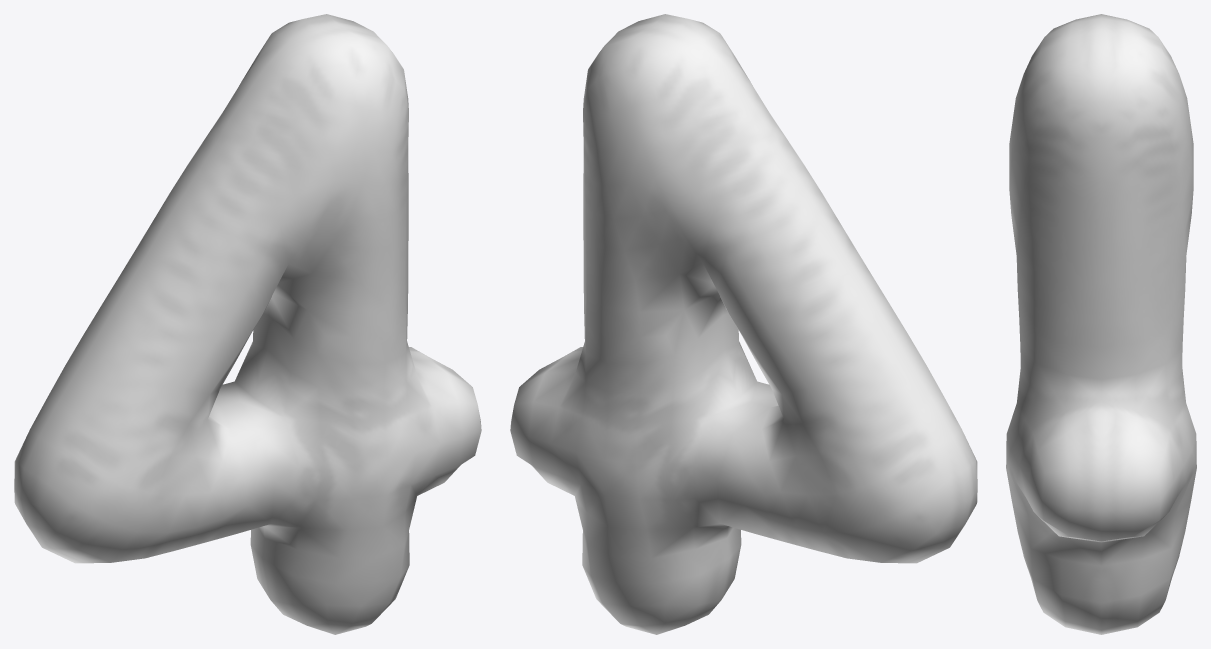
The model's file is LettersBalloon01_4.FBX.
3 renders of one model, left to right at view 1: azimuth 30°, elevation 25°; view 2: azimuth 150°, elevation 25°; view 3: azimuth 270°, elevation 25°, orthographic.
Parts seen in each view (by area): view 1: LettersBalloon01_4; view 2: LettersBalloon01_4; view 3: LettersBalloon01_4.
Boxes of the visible parts, <box> form: LettersBalloon01_4: <box>14,14,481,634</box>; LettersBalloon01_4: <box>510,14,977,634</box>; LettersBalloon01_4: <box>1006,14,1196,634</box>.
Size of what is drawn, in the model's own units: 0.3783 by 0.4851 by 0.14.
